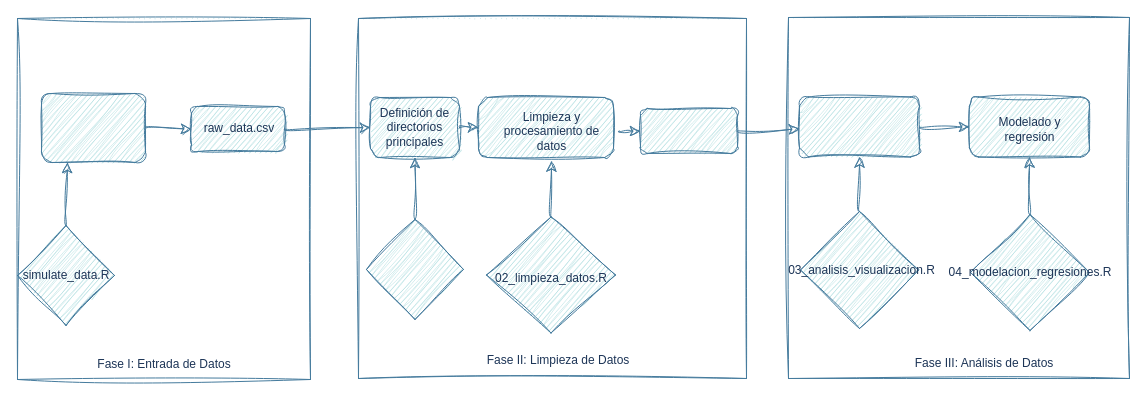
The diagram is 1147 pixels wide and 397 high, and some of its shapes have lost their labels. Here are the shapes that lost their labels. From the top down, the centre of each, then its label:
At point (93, 127): "Simulación de datos".
At point (689, 131): "cleaned_data.csv".
At point (859, 126): "Análisis exploratorio y visualización".
At point (415, 269): "01_directorios.R".
